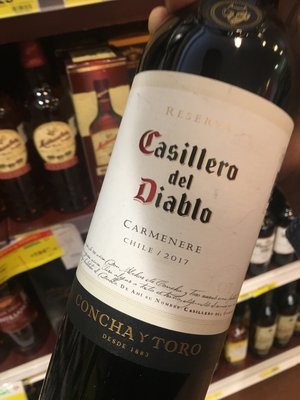casillero del diablo carmenere: (73, 14, 277, 387)
